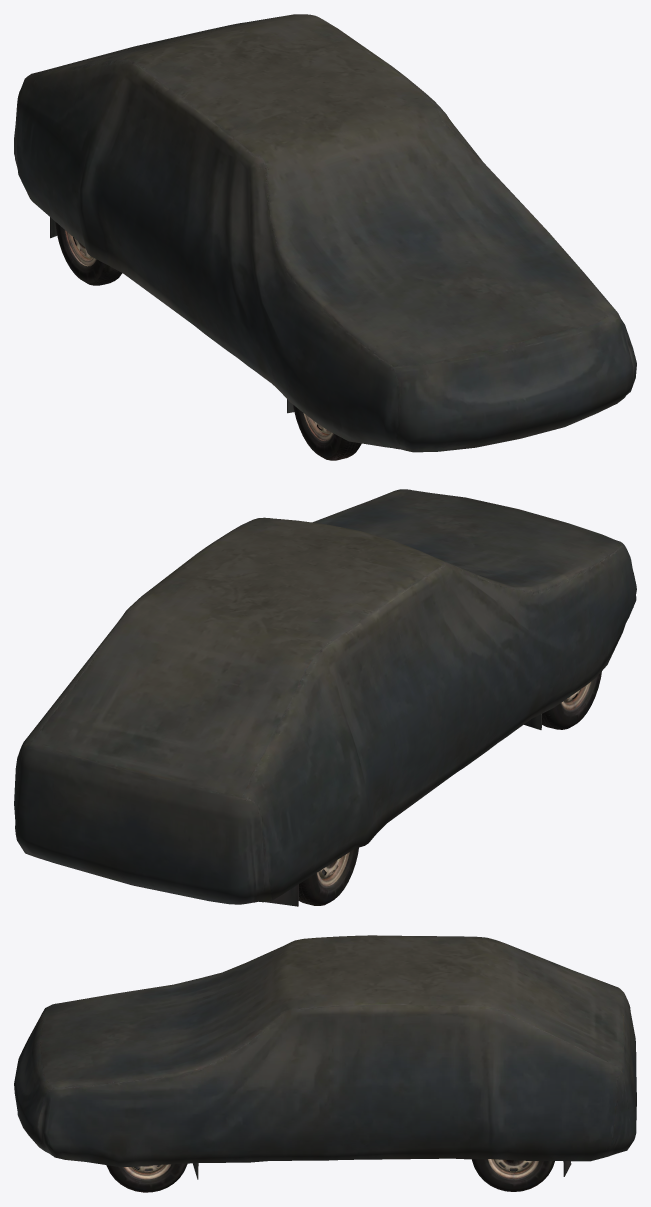
Rendered from covered_car.glb.
The picture shows the model from 3 angles, top to bottom: view 1: azimuth 30°, elevation 25°; view 2: azimuth 150°, elevation 25°; view 3: azimuth 270°, elevation 25°; orthographic projection. The views are drawn at different scales.
Parts seen in each view (by area): view 1: covered_car, covered_car_wheel_03, covered_car_wheel_02; view 2: covered_car, covered_car_wheel_03, covered_car_wheel_02; view 3: covered_car, covered_car_wheel_04, covered_car_wheel_01.
Boxes of the visible parts, x1=… form: covered_car: x1=14, y1=14, x2=636, y2=452; covered_car_wheel_03: x1=55, y1=222, x2=122, y2=285; covered_car_wheel_02: x1=293, y1=405, x2=361, y2=460; covered_car: x1=14, y1=489, x2=636, y2=906; covered_car_wheel_03: x1=298, y1=847, x2=358, y2=905; covered_car_wheel_02: x1=542, y1=671, x2=601, y2=729; covered_car: x1=14, y1=935, x2=636, y2=1179; covered_car_wheel_04: x1=472, y1=1159, x2=554, y2=1191; covered_car_wheel_01: x1=106, y1=1163, x2=187, y2=1192.
Bounding box in the file's own units: 1.79 × 1.41 × 4.38.
2 materials, 2 textured.
